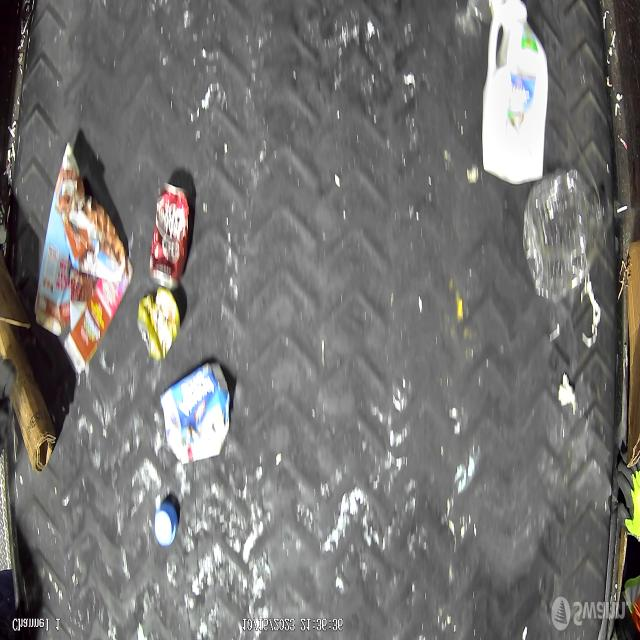can: (149, 180, 191, 290), (138, 286, 182, 362)
milk_jug: (481, 0, 549, 186)
plastic_bottle: (523, 168, 605, 305)
